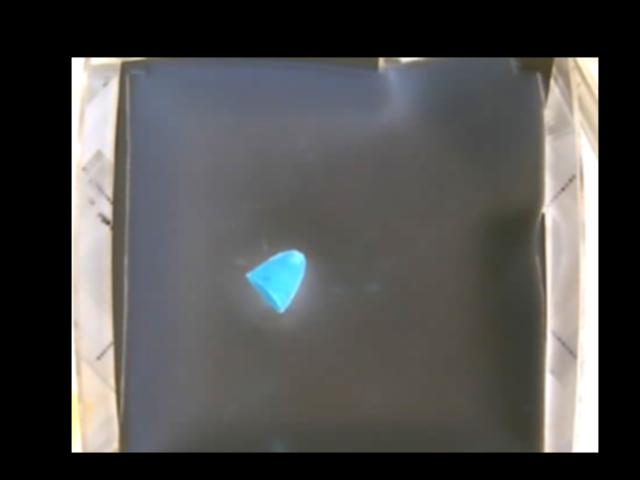Carrot: (244, 249, 306, 312)
